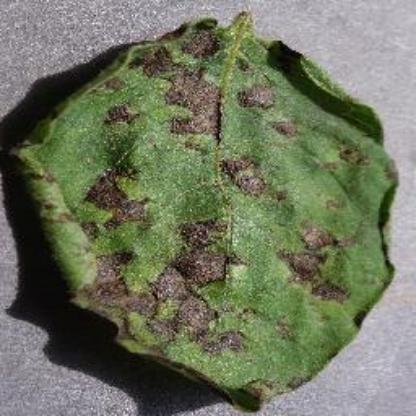Early-Blight: (16, 9, 398, 410)
